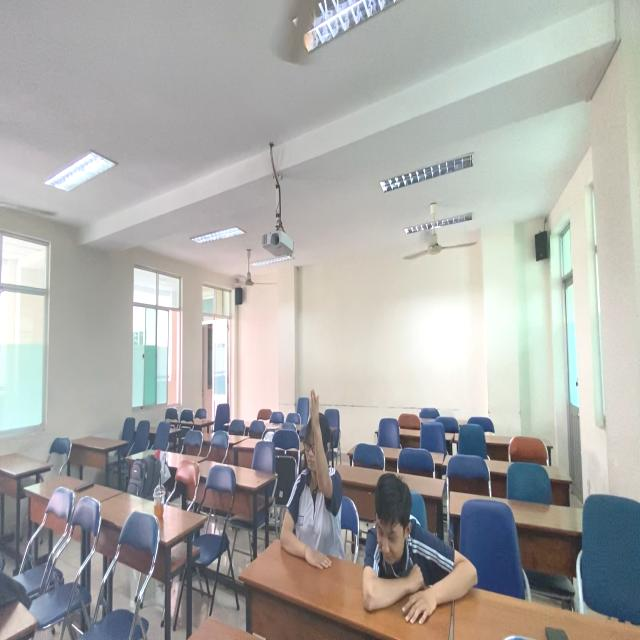raise_hand: (276, 387, 346, 582)
sleep: (360, 469, 488, 619)
